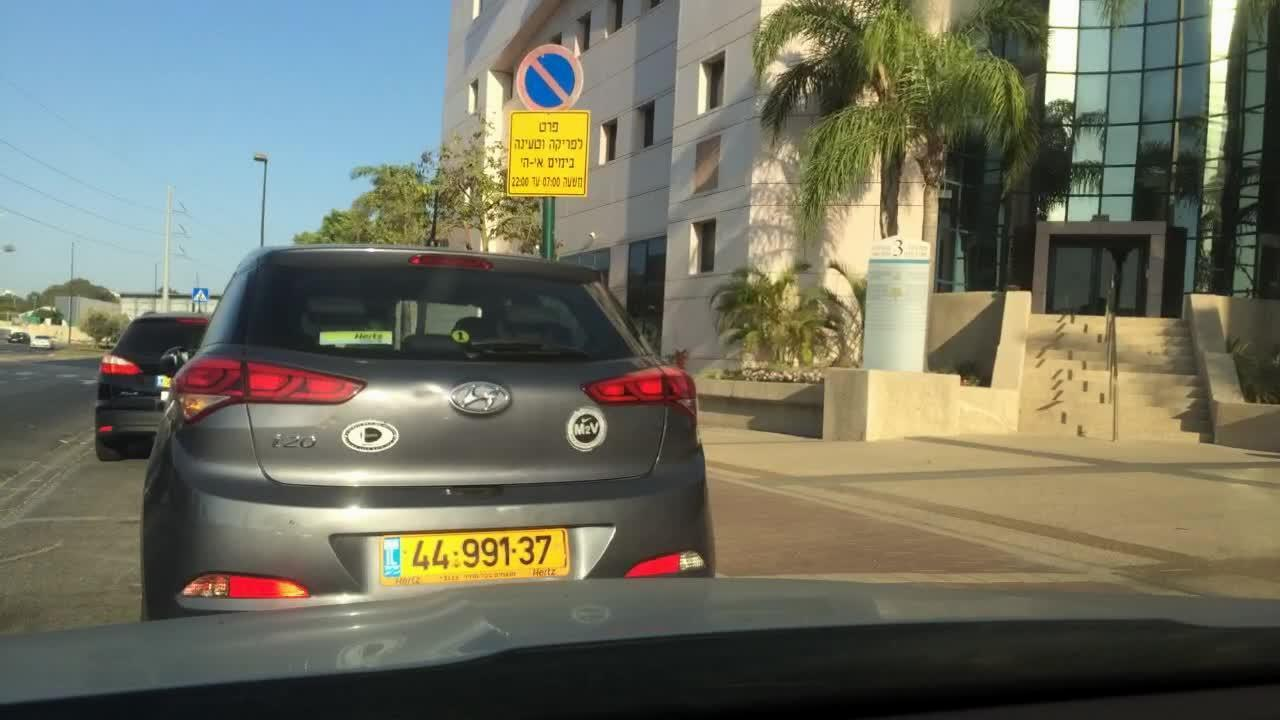Hyundai: (449, 381, 518, 419)
